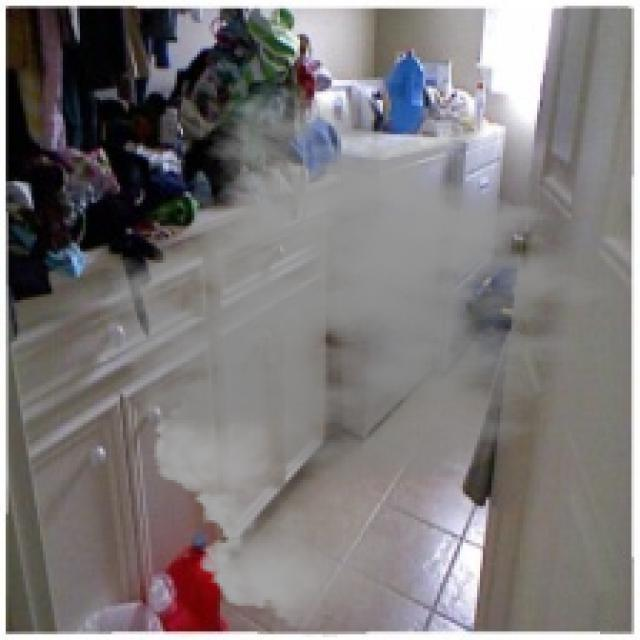Smoke: (82, 85, 638, 638)
